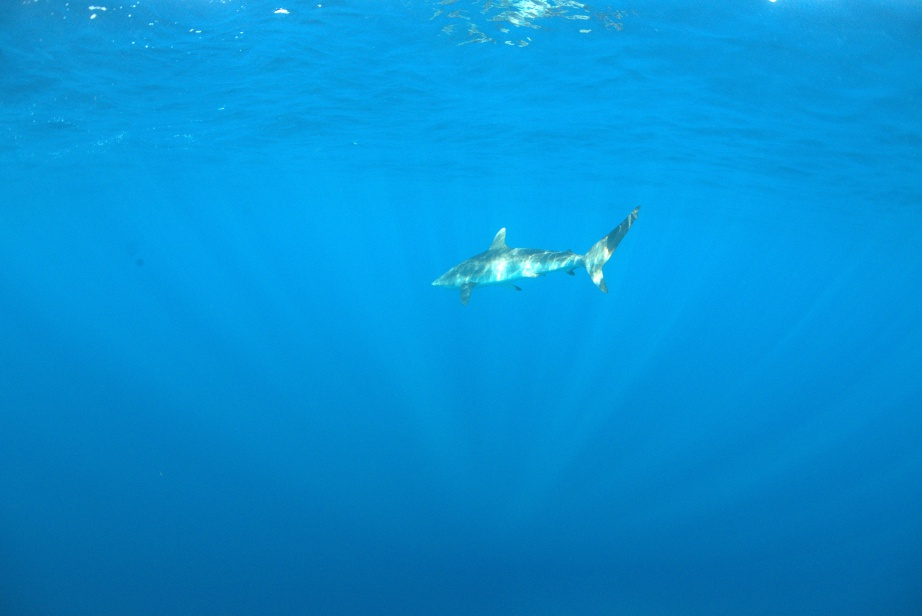Sedoso: (381, 197, 650, 306)
